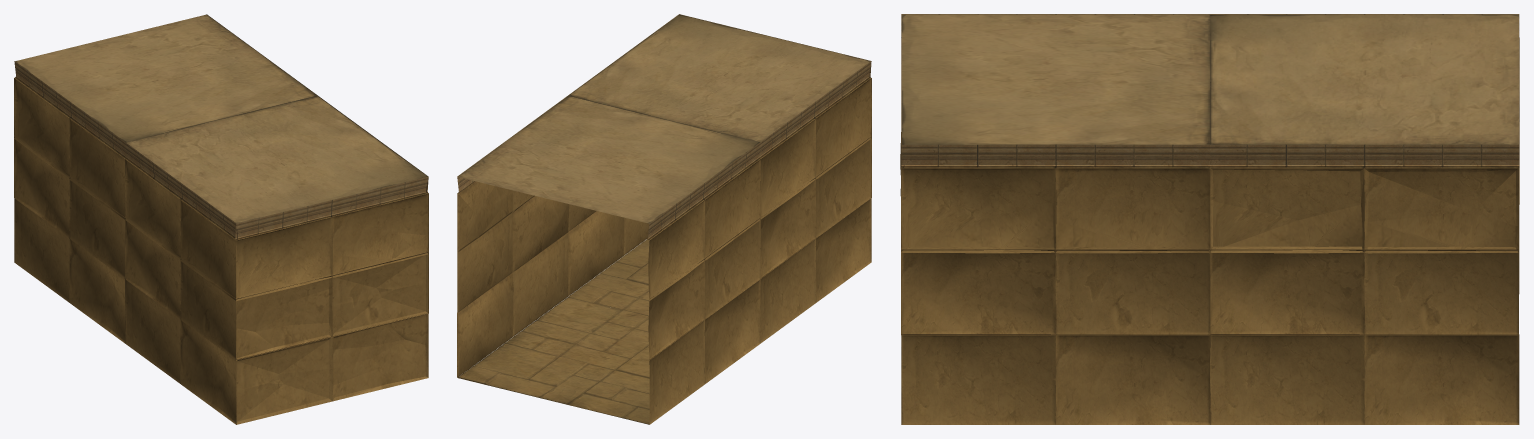
The model's file is m_DeadEnd01.FBX.
The picture shows the model from 3 angles, left to right: view 1: azimuth 30°, elevation 25°; view 2: azimuth 150°, elevation 25°; view 3: azimuth 270°, elevation 25°; orthographic projection. The views are drawn at different scales.
Parts seen in each view (by area): view 1: m_DeadEnd01; view 2: m_DeadEnd01; view 3: m_DeadEnd01.
Boxes of the visible parts, bbox=[...] form: m_DeadEnd01: bbox=[14, 14, 428, 424]; m_DeadEnd01: bbox=[457, 14, 871, 424]; m_DeadEnd01: bbox=[900, 14, 1519, 424].
Bounding box in the file's own units: 101 × 201 × 100.
1 material, 1 textured.
